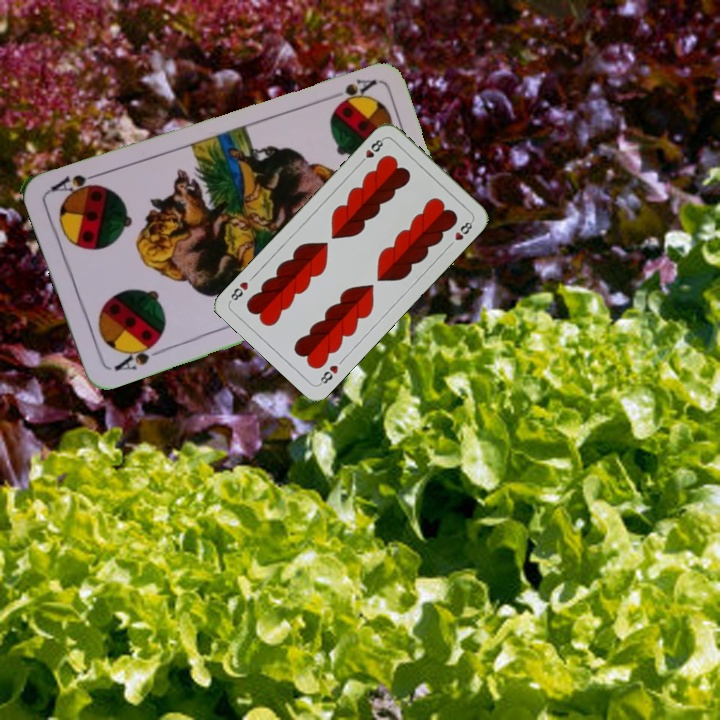H8: (355, 134, 387, 167), (315, 361, 341, 388)
SA: (109, 336, 165, 374), (321, 74, 378, 104)
